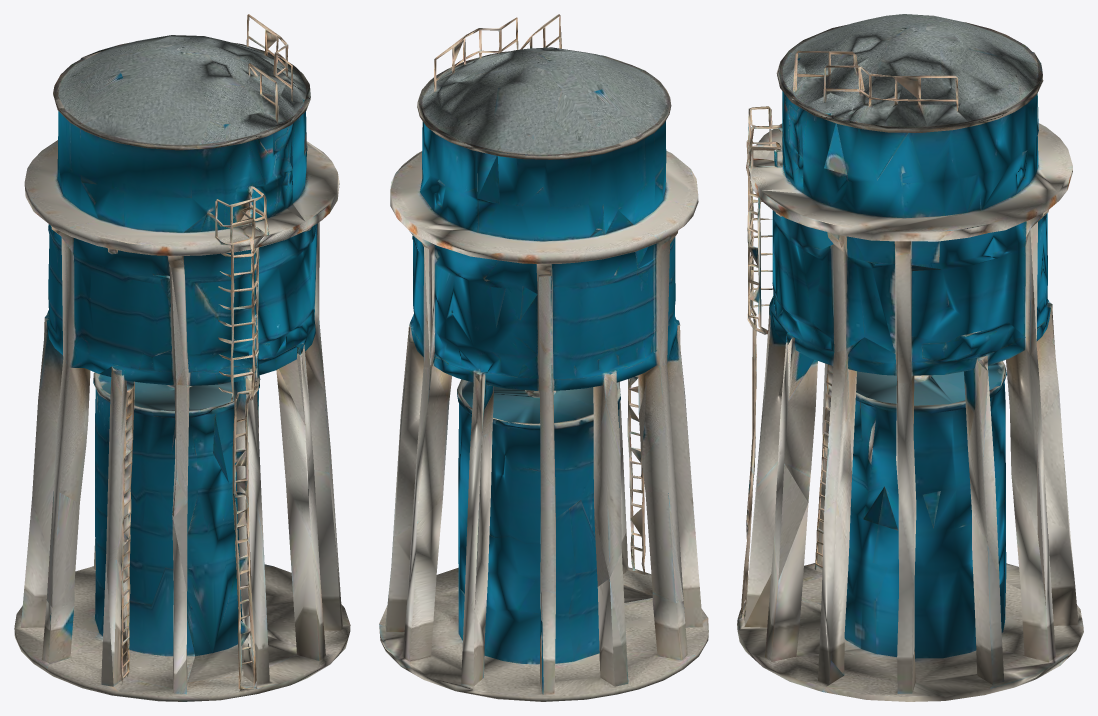
File: fv_water_tower.glb
The picture shows the model from 3 angles, left to right: view 1: azimuth 30°, elevation 25°; view 2: azimuth 150°, elevation 25°; view 3: azimuth 270°, elevation 25°; orthographic projection. The views are drawn at different scales.
Visible parts, largest first — view 1: fv_water_tower; view 2: fv_water_tower; view 3: fv_water_tower.
Boxes of the visible parts, x1=… form: fv_water_tower: x1=14, y1=14, x2=350, y2=701; fv_water_tower: x1=379, y1=14, x2=708, y2=701; fv_water_tower: x1=737, y1=14, x2=1083, y2=701.
Size of the model in its own units: 4.72 by 9 by 4.72.
1 material, 1 textured.
